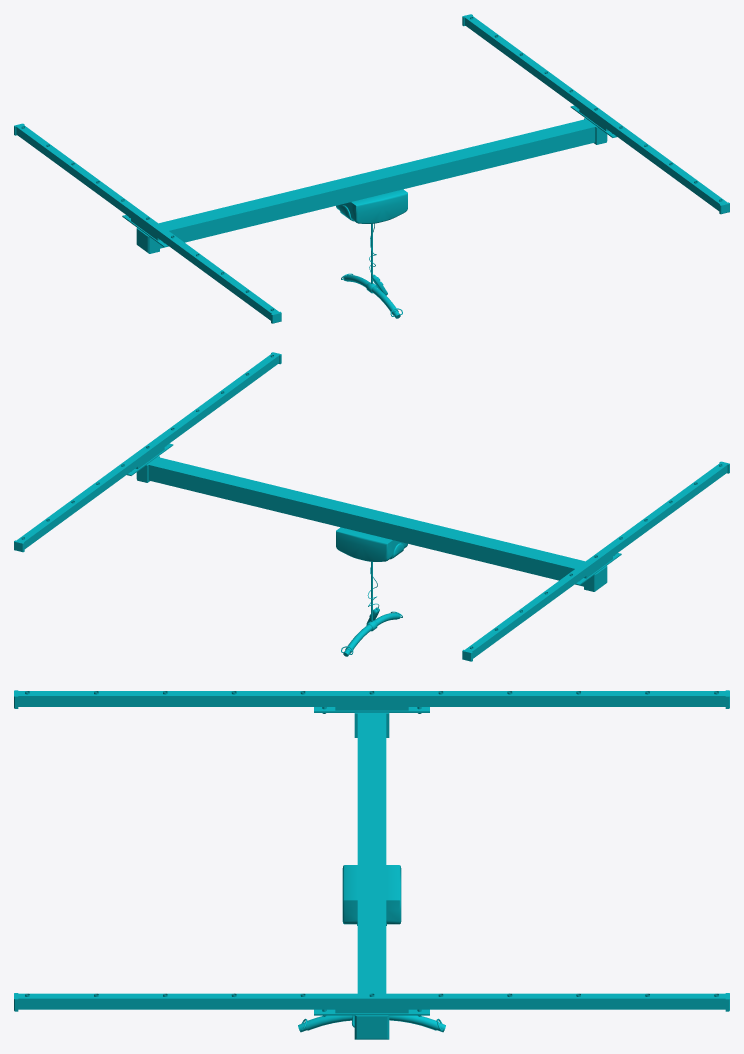
File: Winch_1.fbx
The picture shows the model from 3 angles, top to bottom: view 1: azimuth 30°, elevation 25°; view 2: azimuth 150°, elevation 25°; view 3: azimuth 270°, elevation 25°; orthographic projection. The views are drawn at different scales.
Parts seen in each view (by area): view 1: Winch_1, Winch_1_2; view 2: Winch_1, Winch_1_2; view 3: Winch_1, Winch_1_2.
Part boxes in pixels (bbox=[...]): Winch_1: bbox=[14, 14, 729, 323]; Winch_1_2: bbox=[336, 189, 407, 318]; Winch_1: bbox=[14, 352, 729, 661]; Winch_1_2: bbox=[336, 527, 407, 656]; Winch_1: bbox=[14, 690, 729, 1039]; Winch_1_2: bbox=[298, 865, 445, 1032].
Size of the model in its own units: 308 by 87.33 by 300.
